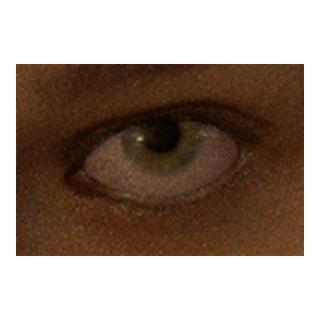pupil: (144, 116, 180, 152)
